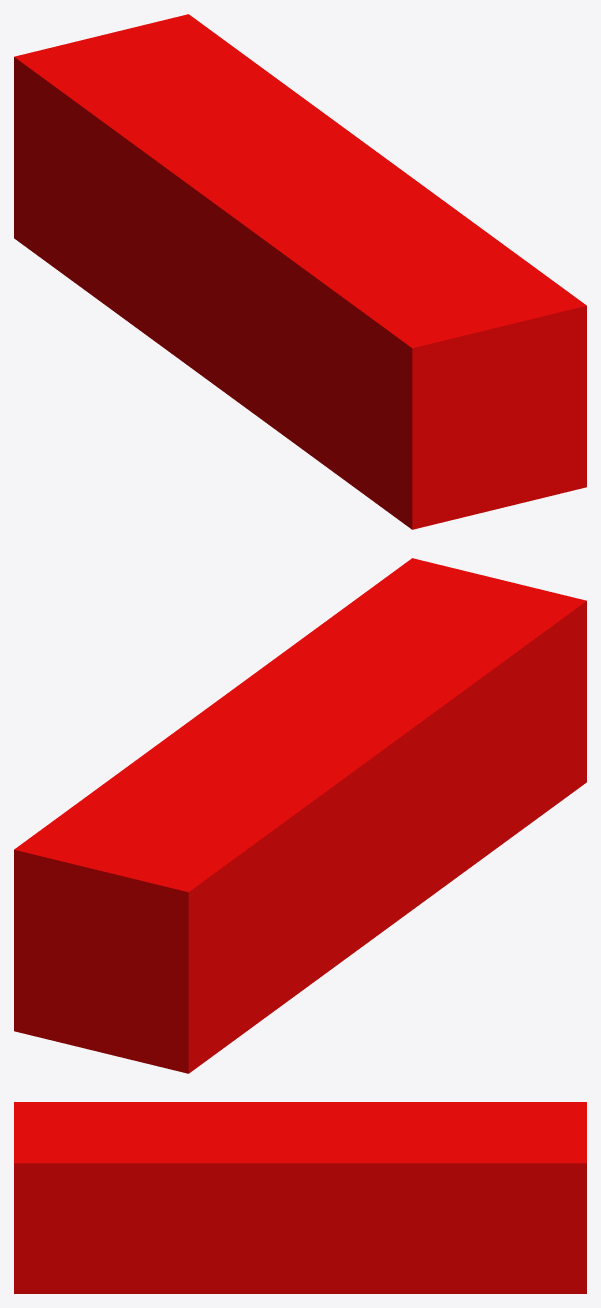
Rendered from ellipsoid_center_col.dae.
The picture shows the model from 3 angles, top to bottom: view 1: azimuth 30°, elevation 25°; view 2: azimuth 150°, elevation 25°; view 3: azimuth 270°, elevation 25°; orthographic projection. The views are drawn at different scales.
Parts seen in each view (by area): view 1: node0; view 2: node0; view 3: node0.
Part boxes in pixels (x1,y1,x2,y2): node0: [14, 14, 586, 529]; node0: [14, 558, 586, 1073]; node0: [14, 1102, 586, 1293].
Size of the model in its own units: 0.0605 by 0.0601 by 0.239.
